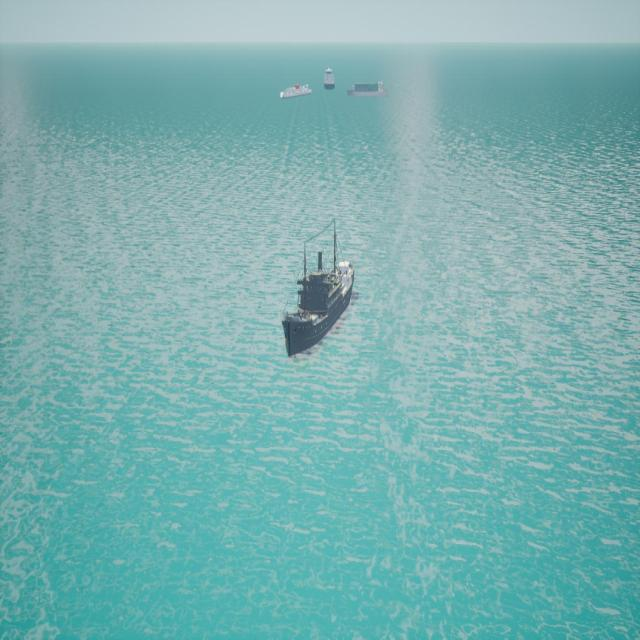fishing ship: (282, 238, 356, 361), (350, 81, 389, 98), (281, 85, 314, 101), (325, 70, 337, 92)
